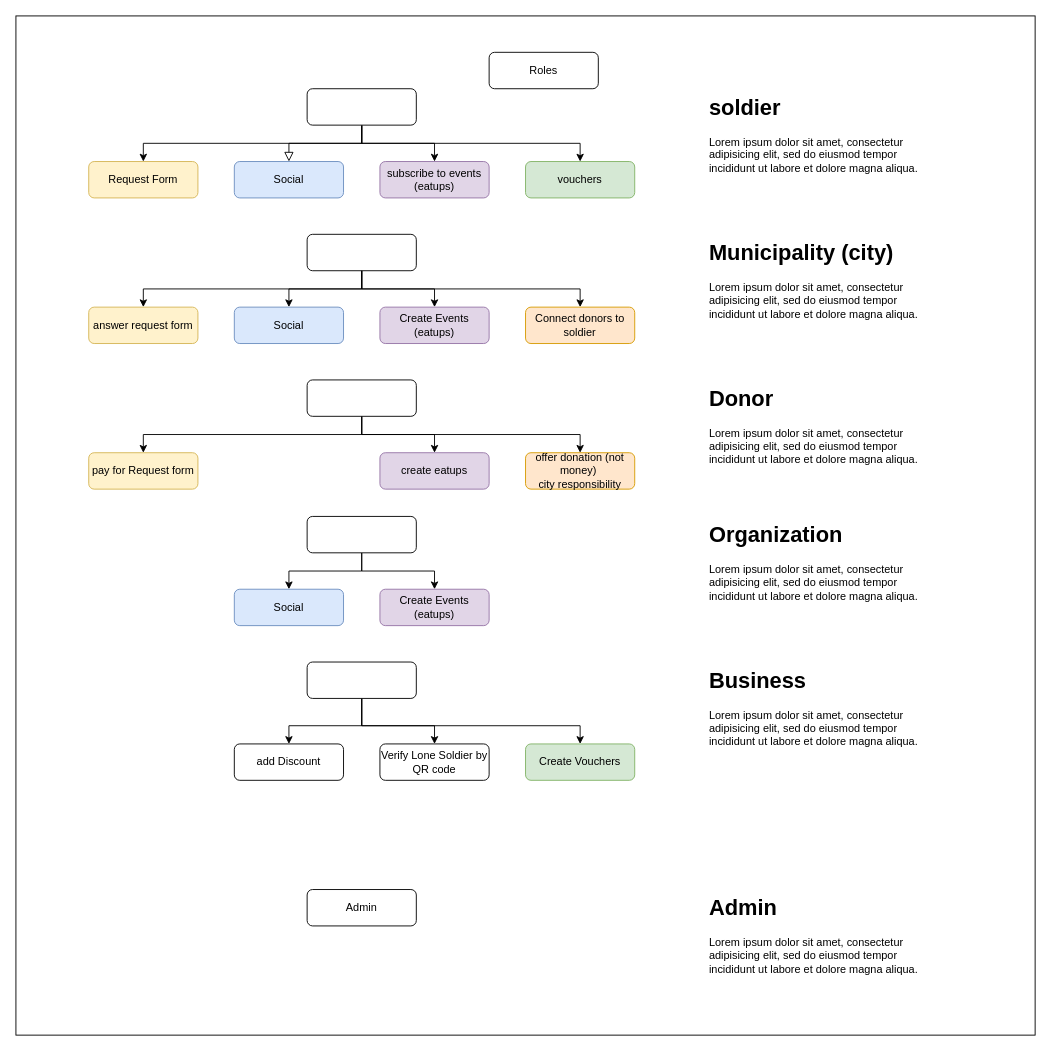
This 1051x1051 diagram has some shape labels left out. Each missing label, with the centre of its shape:
"Business" belongs at point (361, 679).
"Donor" belongs at point (361, 397).
"Municipality (city)" belongs at point (361, 252).
"Organization" belongs at point (361, 534).
"Solder" belongs at point (361, 106).
